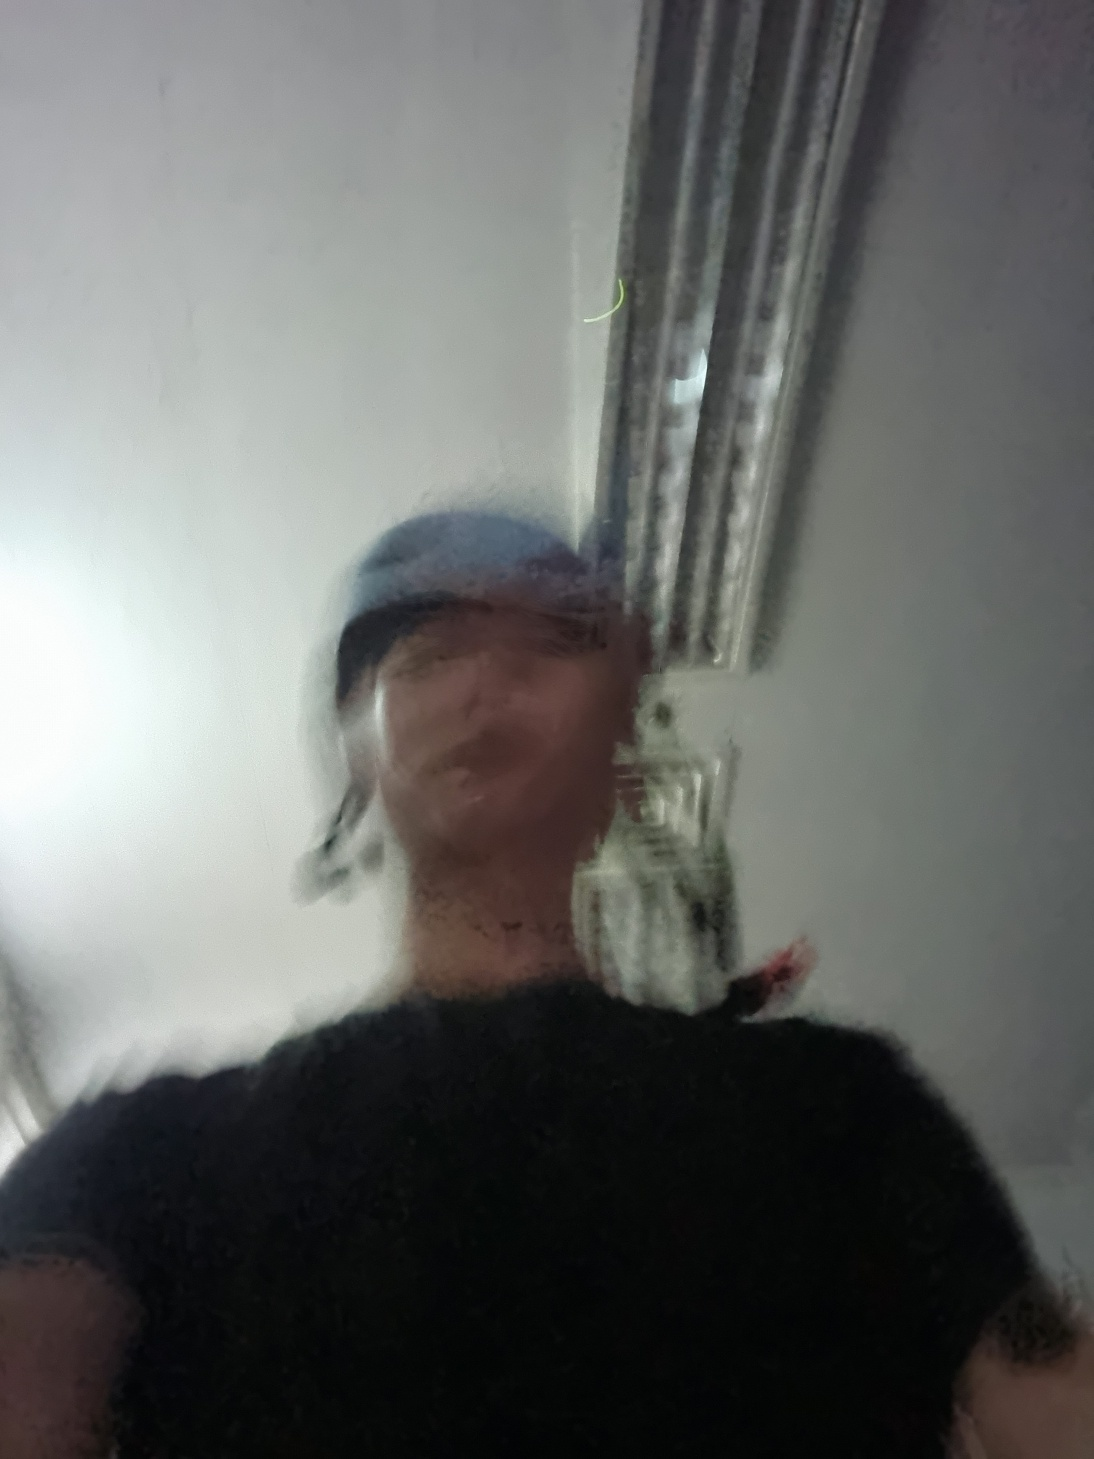Helmet: (254, 472, 707, 956)
